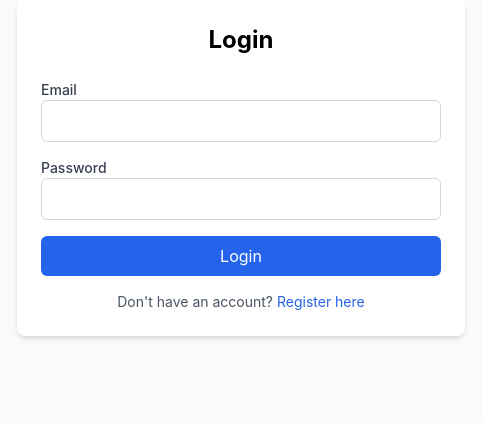
Login Component › shows error when email is missing
The width and height of the screenshot is (483, 423).
Step 1. Type "password123" into the password field labelled "Password" → (241, 199), box [41,178,441,220]
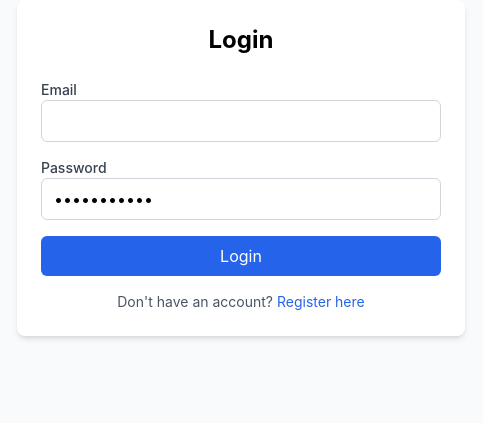
Step 2. Click the button "Login" → (241, 256), box [41,236,441,276]
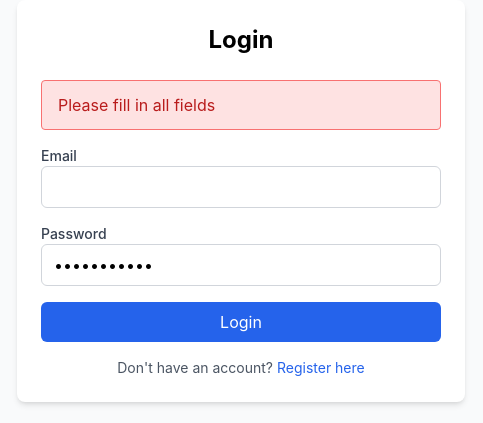
Now the text "Please fill in all fields" is shown, box [41,80,441,130]
